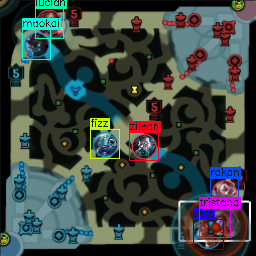fizz: (93, 132, 117, 156)
leesin: (42, 14, 68, 39)
lucian: (36, 9, 61, 34)
maokai: (24, 32, 49, 57)
rakan: (211, 179, 237, 204)
sett: (195, 224, 221, 249)
tristana: (202, 208, 228, 233)
zilean: (130, 133, 156, 159)
